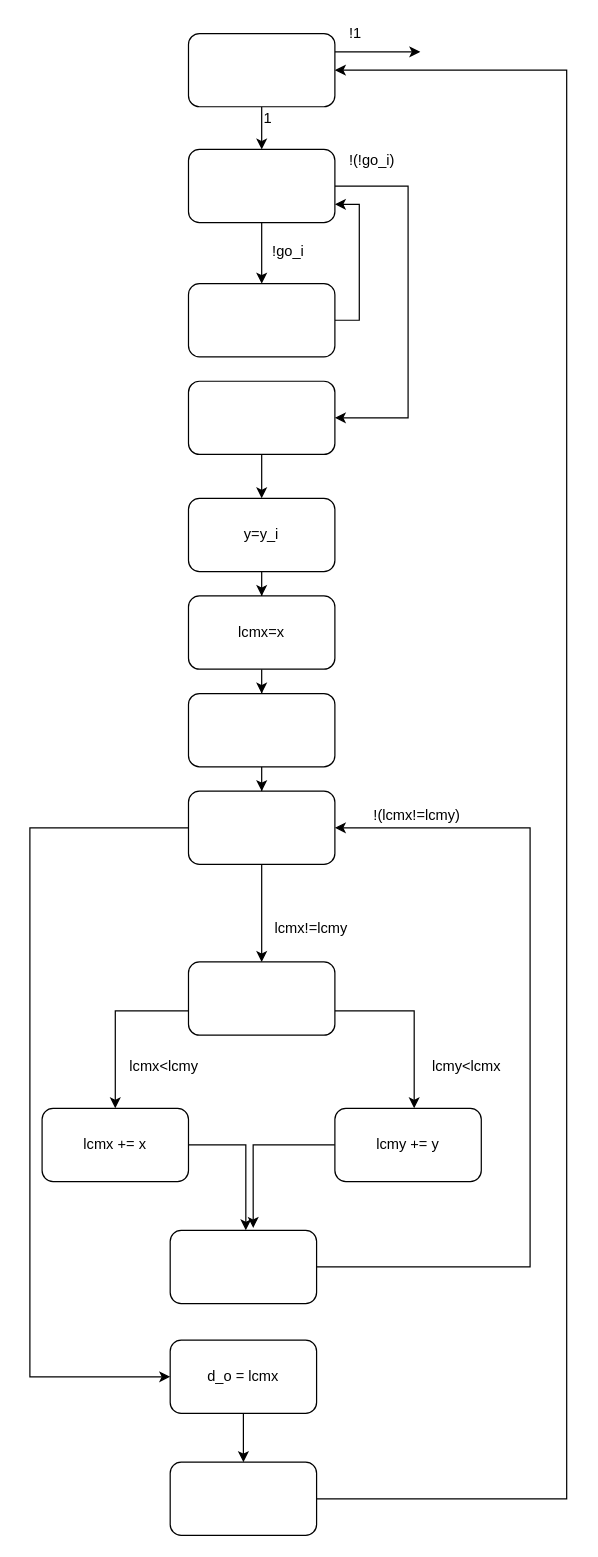
Some shapes in this 598 by 1557 pixel diagram are drawn without their labels. The shapes that lost their labels are listed below. From the top down, each one's box as (x1, y1, x2, y2) in pixels, then its label:
(187, 380, 335, 454): x=x_i
(187, 692, 335, 767): lcmy=y
